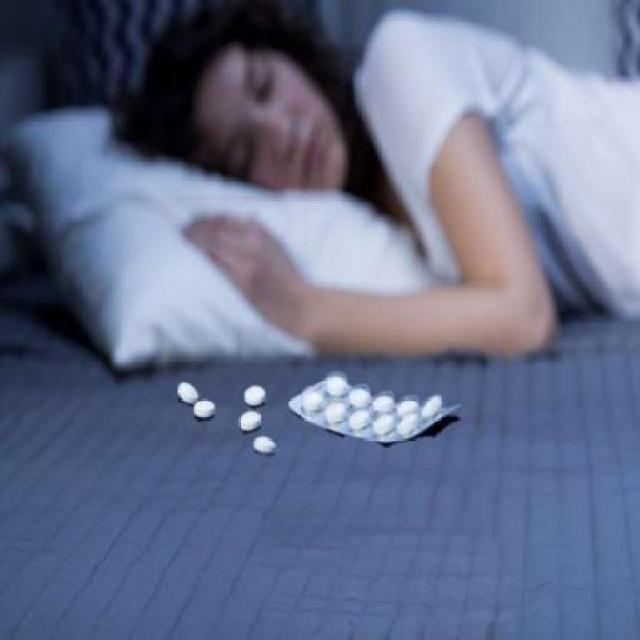B3: (172, 366, 533, 511)
